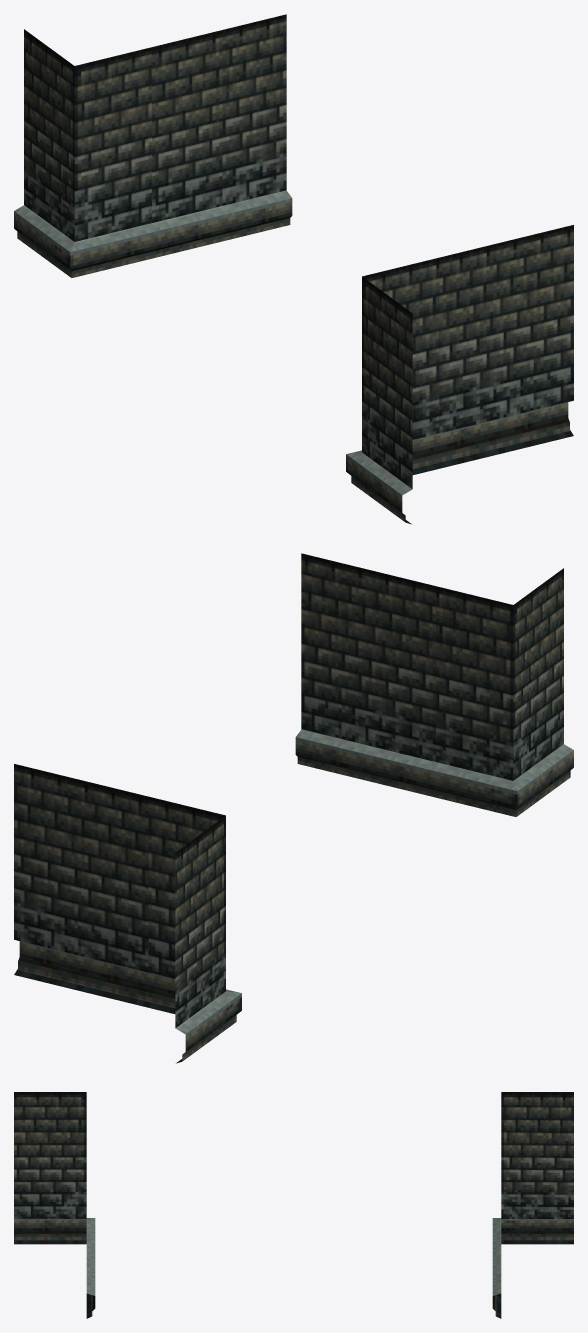
The model's file is EnvBdgMD_Castle_Raimei_A_Bridge_A_10W_Loop_A_Snow.FBX.
3 views of the same model, one above another, from view 1: azimuth 30°, elevation 25°; view 2: azimuth 150°, elevation 25°; view 3: azimuth 270°, elevation 25° (orthographic). The views are drawn at different scales.
Parts seen in each view (by area): view 1: EnvBdgMD_Castle_Raimei_A_Bridge_A_10W_Loop_A_Snow; view 2: EnvBdgMD_Castle_Raimei_A_Bridge_A_10W_Loop_A_Snow; view 3: EnvBdgMD_Castle_Raimei_A_Bridge_A_10W_Loop_A_Snow.
Boxes of the visible parts, <box> form: EnvBdgMD_Castle_Raimei_A_Bridge_A_10W_Loop_A_Snow: <box>14,14,573,524</box>; EnvBdgMD_Castle_Raimei_A_Bridge_A_10W_Loop_A_Snow: <box>14,553,573,1063</box>; EnvBdgMD_Castle_Raimei_A_Bridge_A_10W_Loop_A_Snow: <box>14,1092,573,1318</box>.
Size of the model in its own units: 330 by 300 by 1000.
